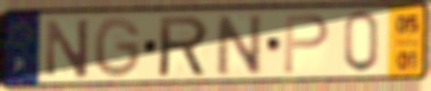0: (341, 9, 381, 76)
G: (92, 14, 144, 81)
N: (214, 12, 264, 78), (44, 16, 92, 80)
P: (281, 13, 332, 76)
R: (156, 13, 211, 79)
